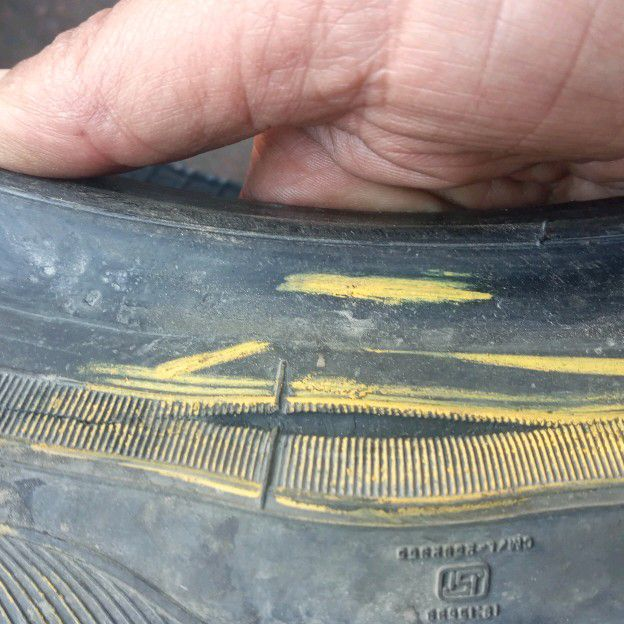cut: (183, 409, 554, 439)
